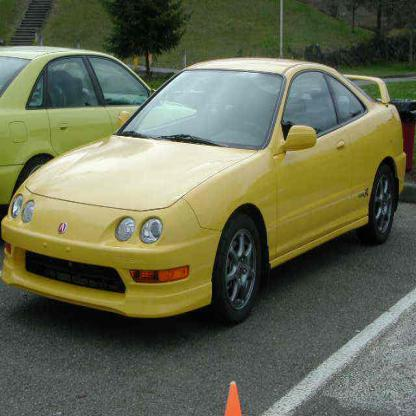Vehicle: (1, 52, 410, 328)
